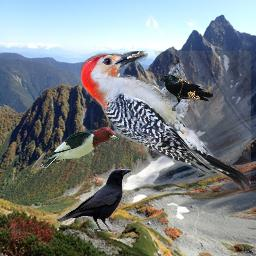Crow: (56, 169, 132, 232), (157, 73, 213, 111)
Woodpecker: (81, 51, 251, 190), (36, 123, 122, 173)
